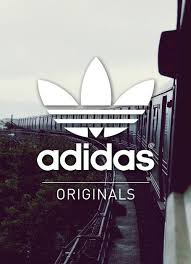adidas: (20, 59, 156, 202)
